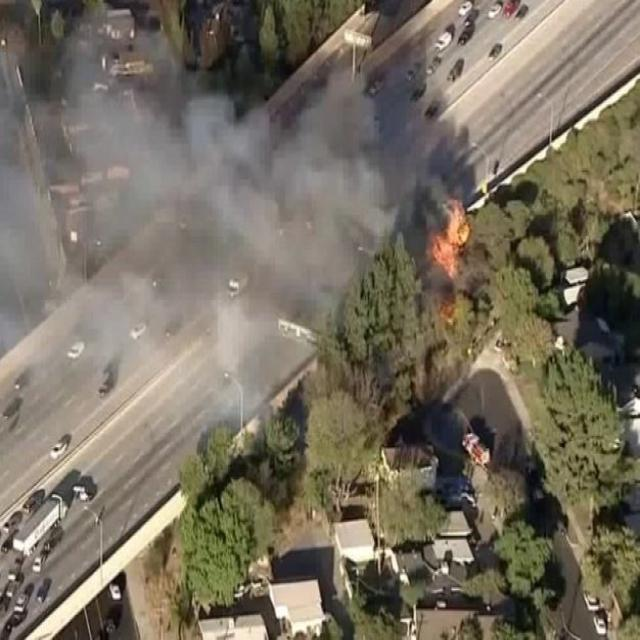Fire: (424, 204, 474, 314)
Smoke: (0, 40, 409, 344)
